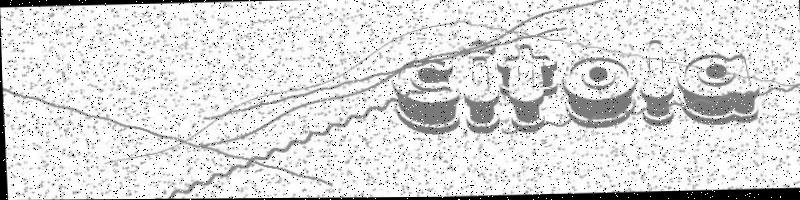a: (673, 50, 768, 134)
c: (384, 53, 462, 134)
i: (458, 33, 502, 143)
l: (637, 37, 682, 133)
o: (562, 50, 638, 132)
t: (494, 39, 559, 135)
